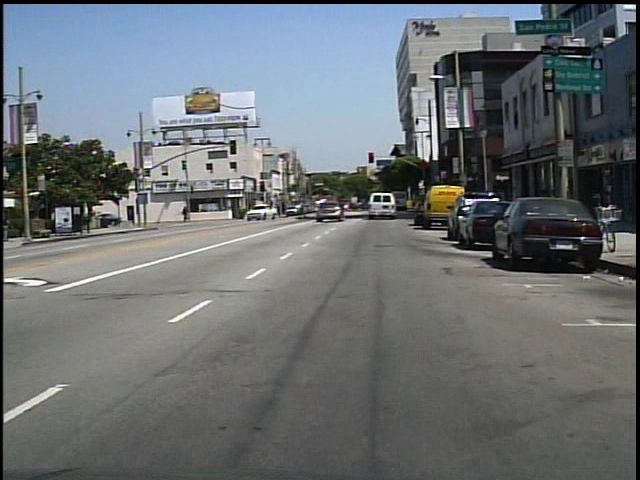person: (299, 195, 312, 224), (184, 204, 190, 224)
